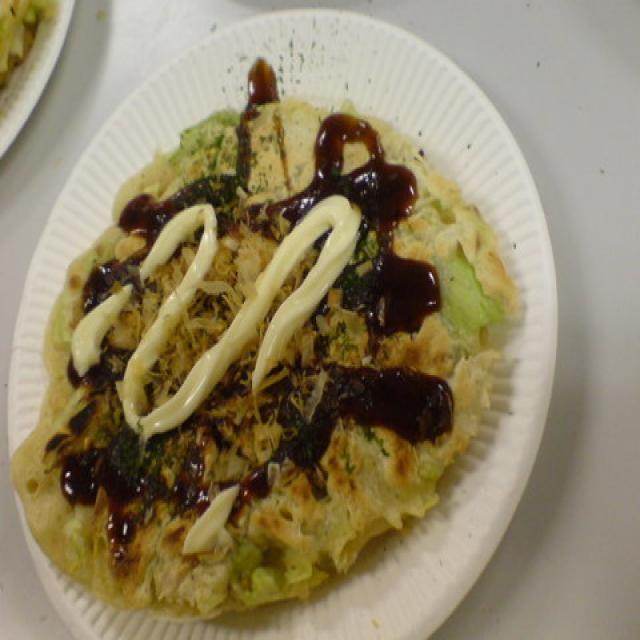蛋糕甜品: (33, 12, 640, 640)
